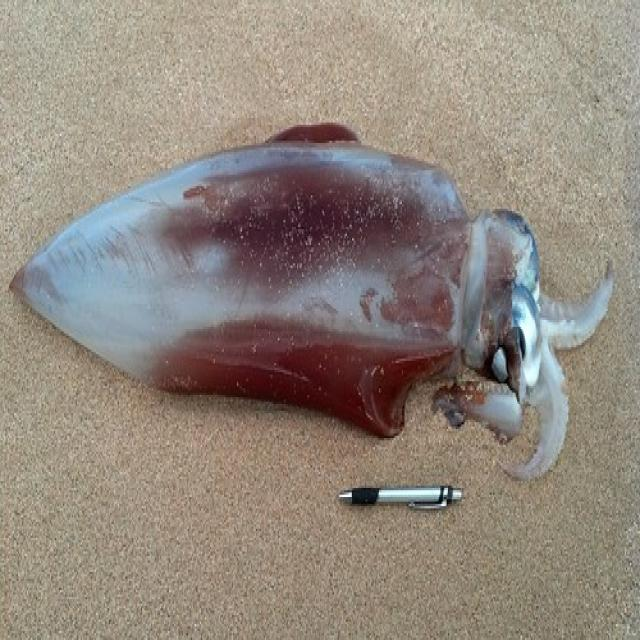SQUID: (13, 102, 640, 497)
